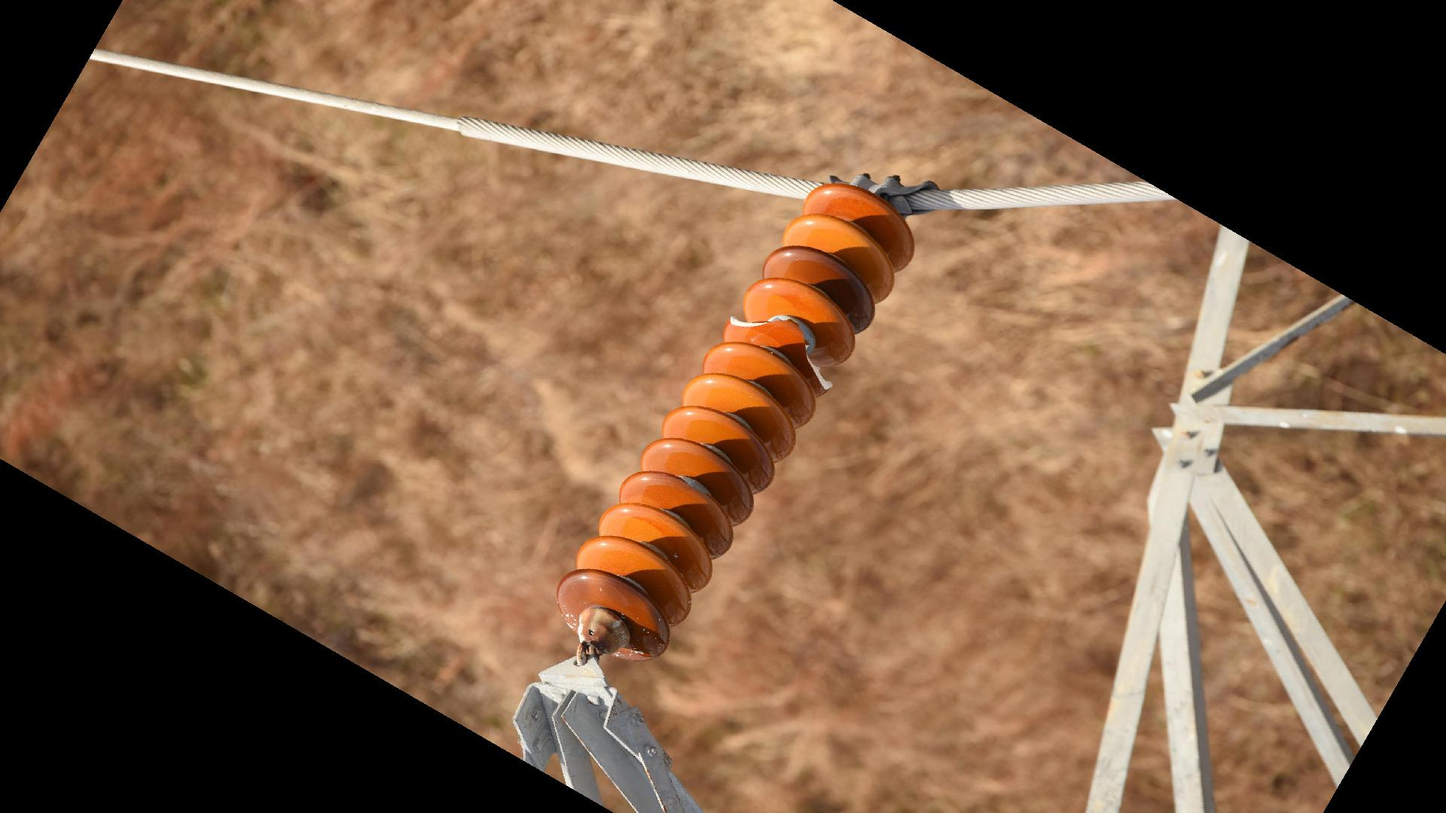insulator: (551, 177, 922, 668)
insulator_breakage: (797, 336, 837, 401), (716, 308, 798, 336)
